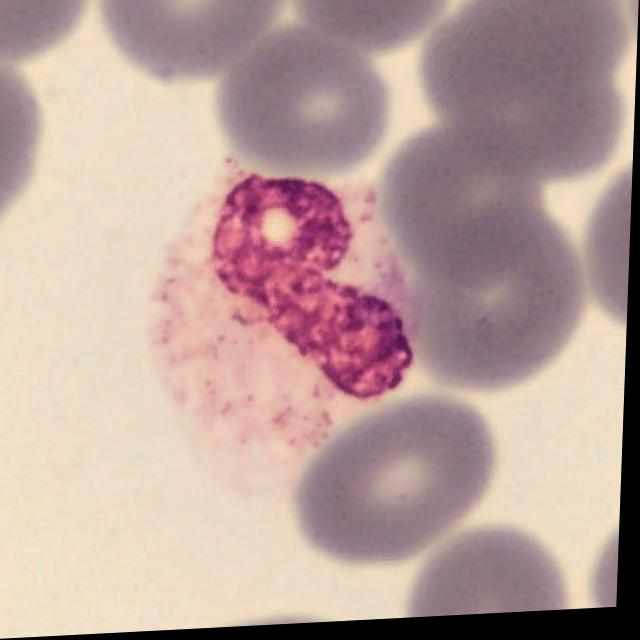Bastonete: (147, 161, 422, 503)
